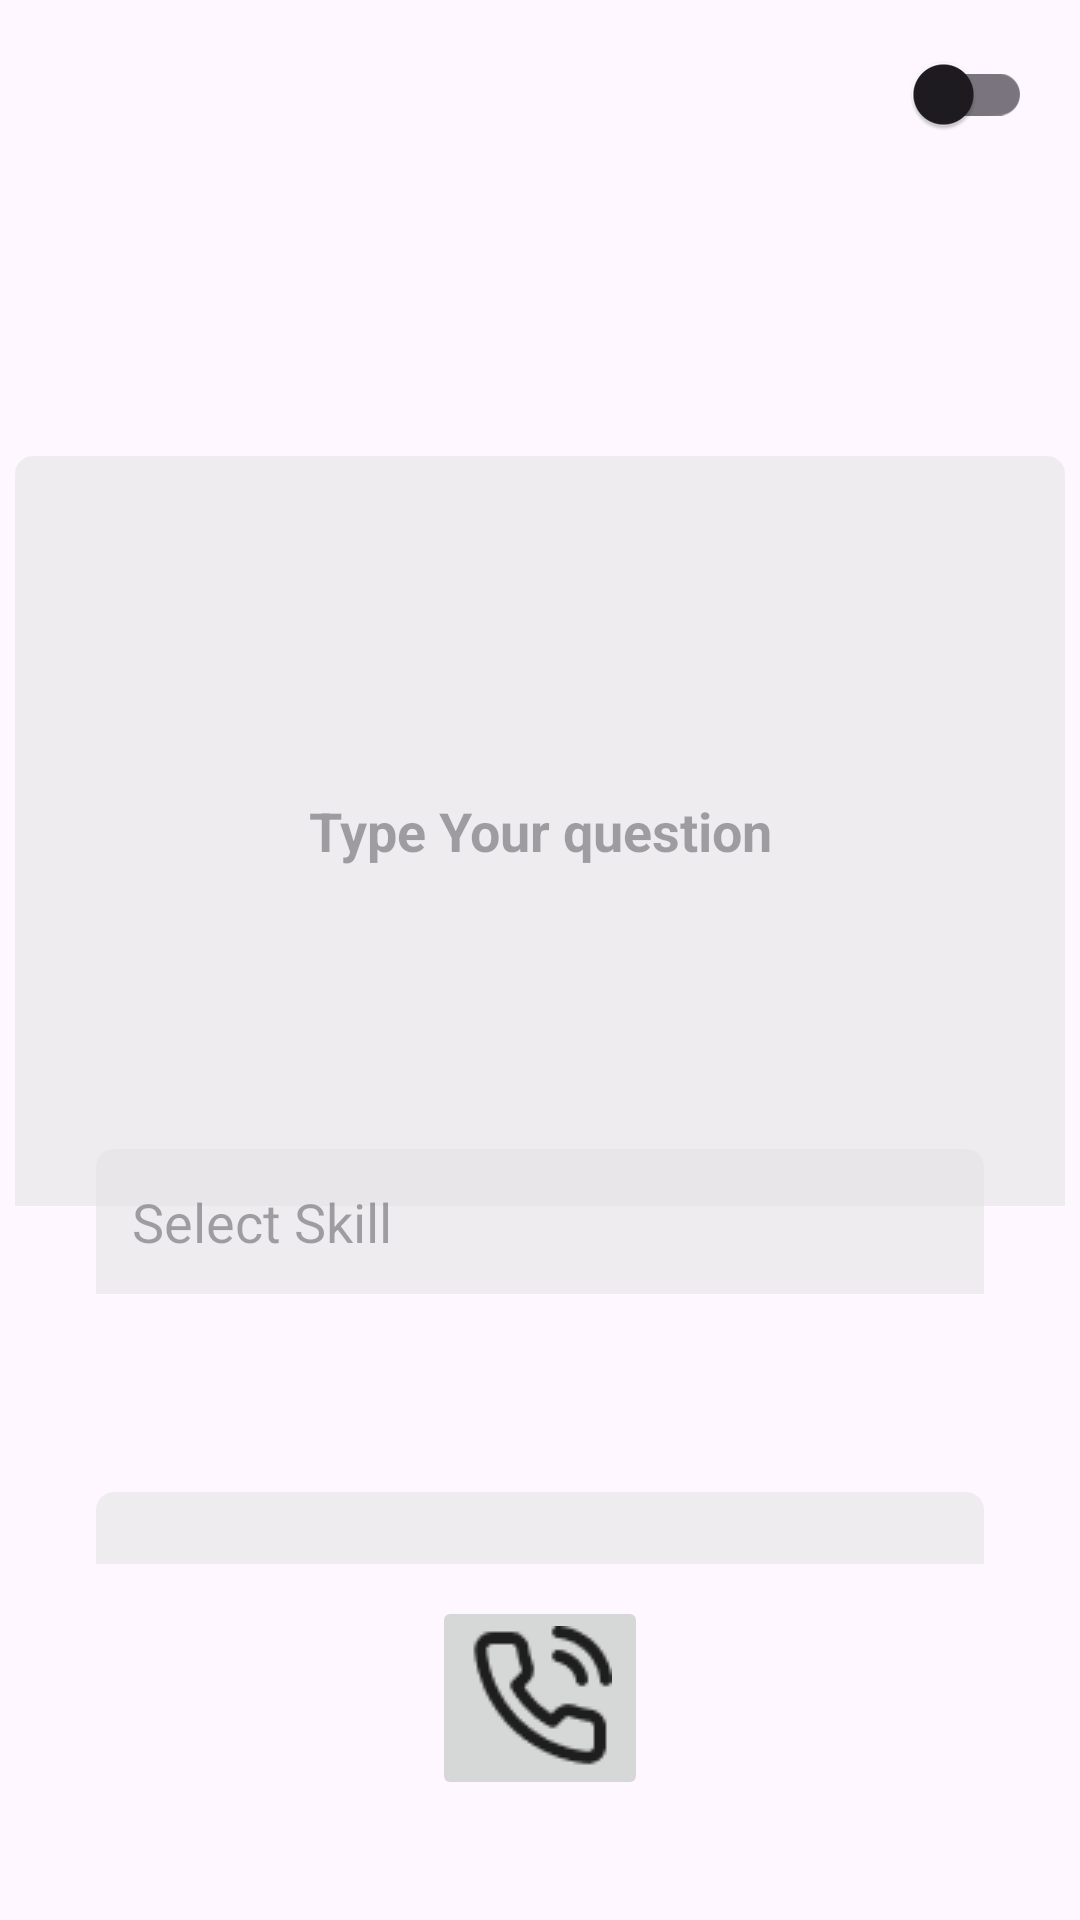

Icons on this 1080px×1920px Android screen, each with its box as (x1, y1, x2, y2):
callicon: (444, 1614, 636, 1782)
